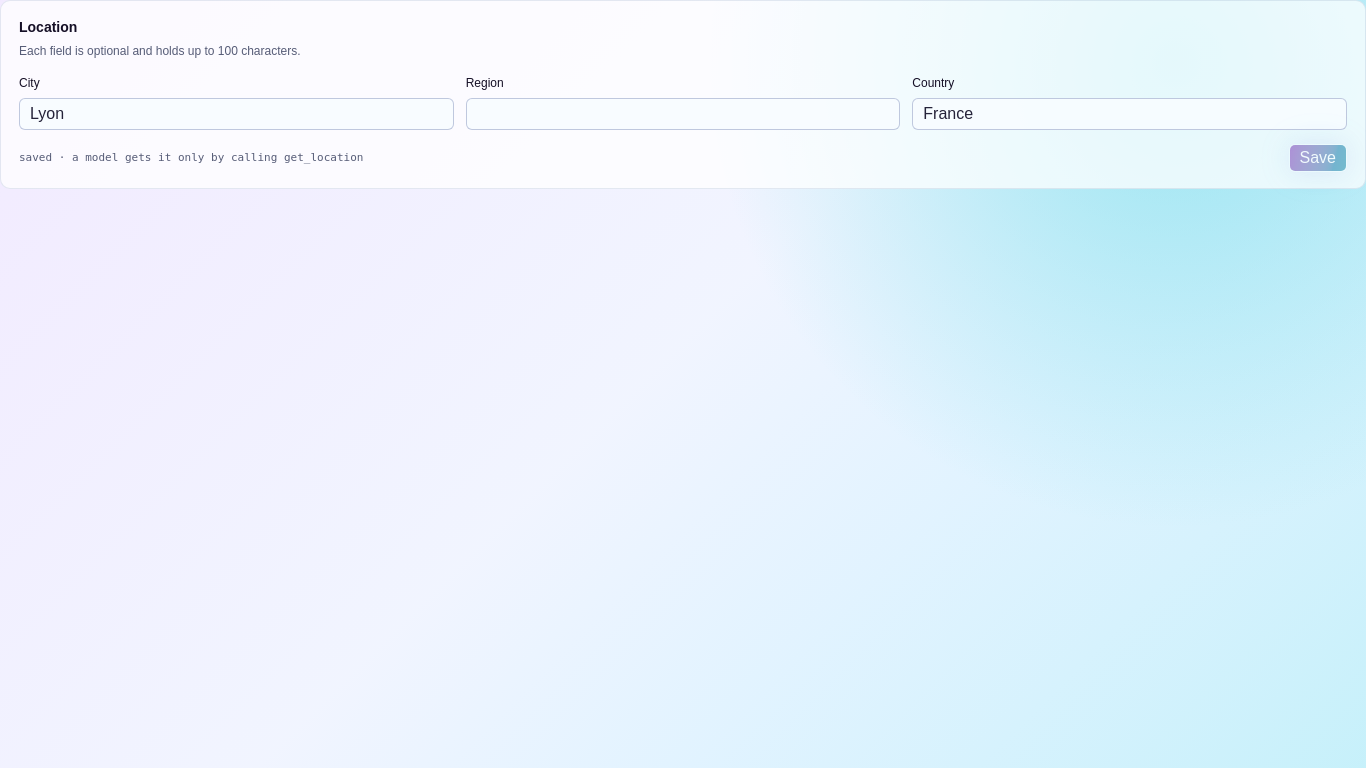
Test: LocationCard › discards the edit on Escape
The image size is (1366, 768).
Type "-la-Duchère" into the field labelled "City" at (236, 114), box [19, 98, 454, 130]
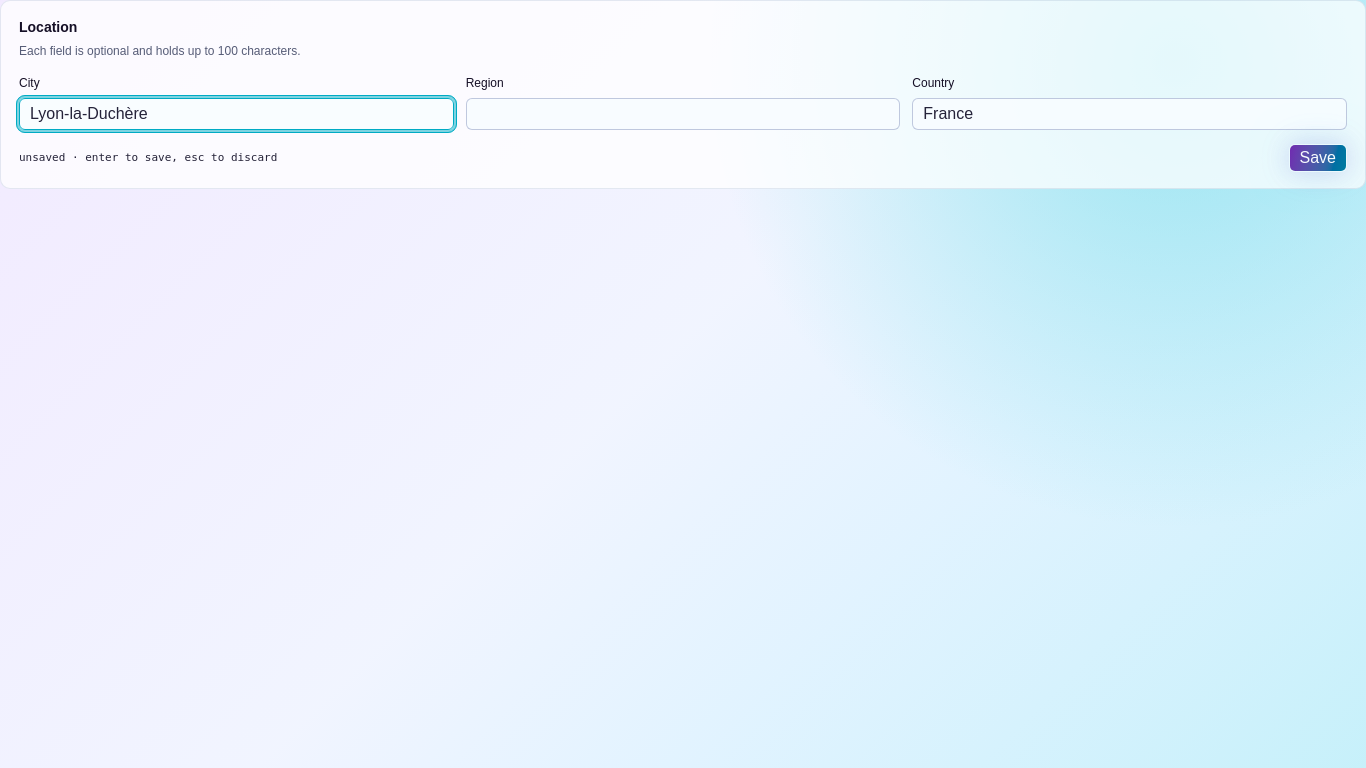
Press Escape
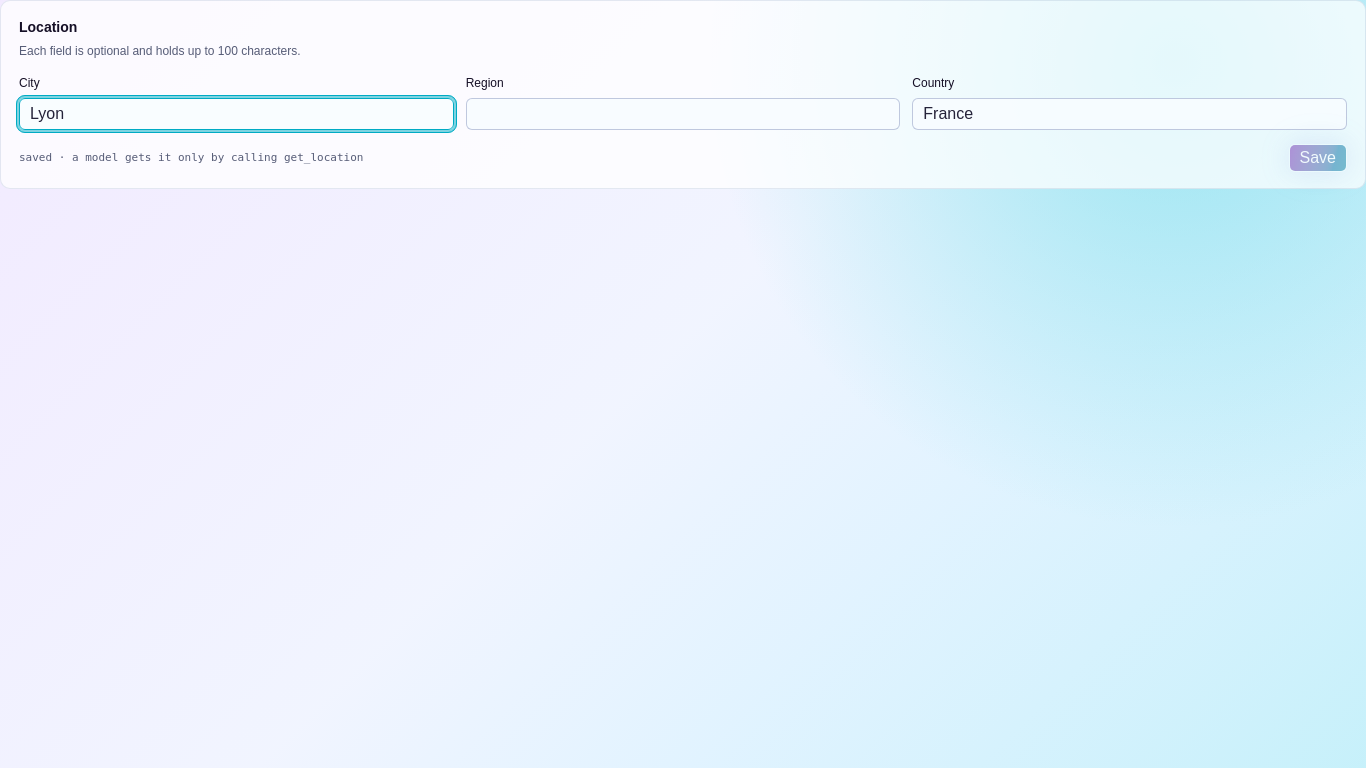
Now the field labelled "City" holds "Lyon", box [19, 98, 454, 130]
Now the button "Save" is disabled, box [1288, 144, 1347, 172]
